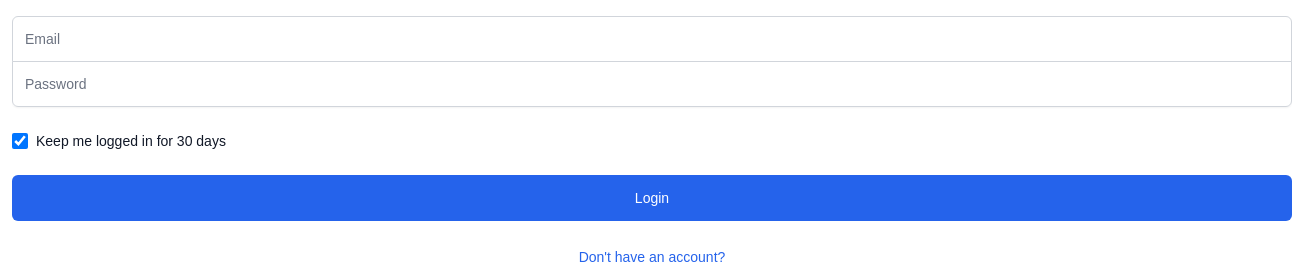
LoginForm › Login Flow › should show loading state during login
Step 1. Type "test@example.com" into the field with placeholder "Email" → point(652, 39), box top-left (12, 16), bottom-right (1292, 62)
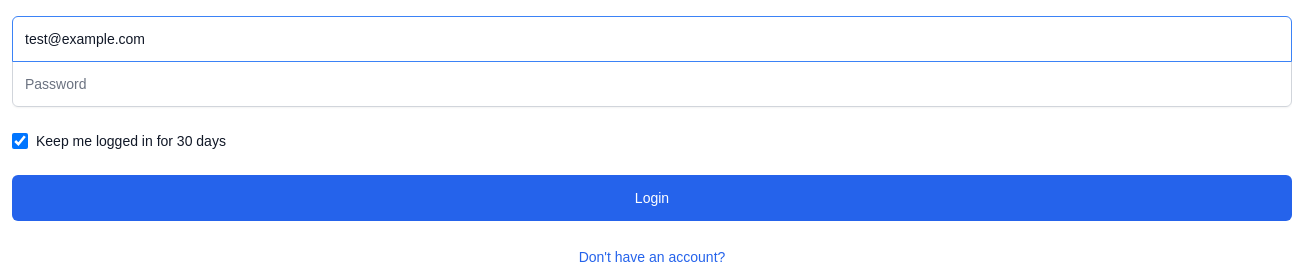
Step 2. Type "password123" into the password field with placeholder "Password" → point(652, 84), box top-left (12, 61), bottom-right (1292, 107)
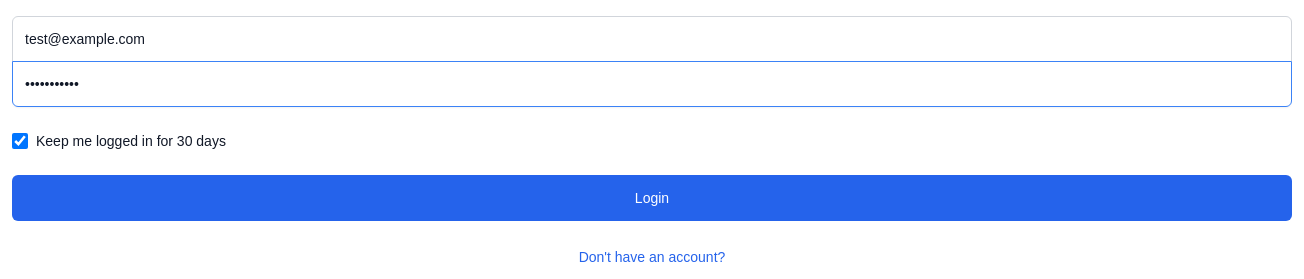
Step 3. Click the button "Login" → point(652, 198), box top-left (12, 175), bottom-right (1292, 221)
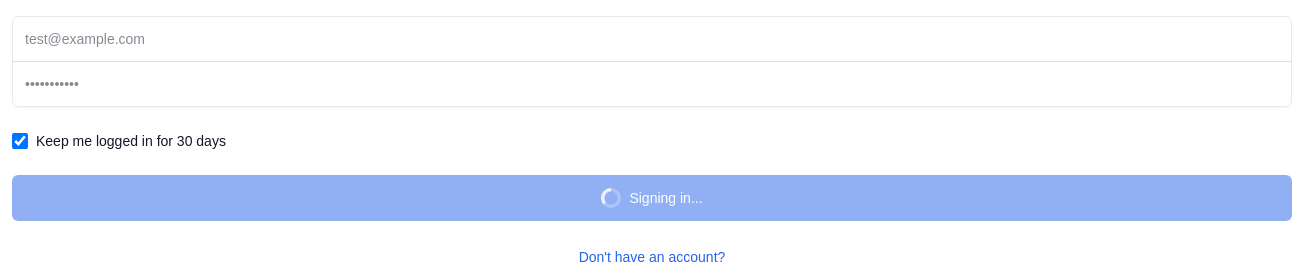
Now the text "Signing in..." is shown, box top-left (629, 188), bottom-right (703, 208)
